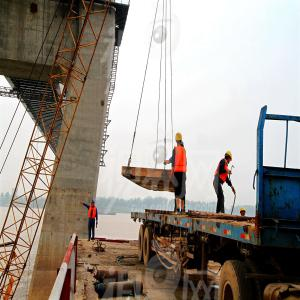blue: (91, 199, 97, 209)
yellow: (175, 132, 184, 149), (225, 150, 234, 167), (240, 208, 247, 218)
